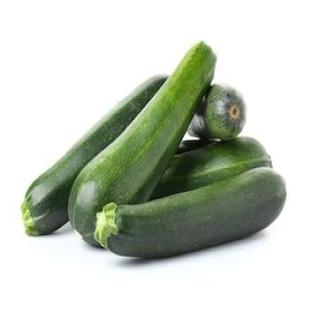Zucchini: (69, 42, 216, 244), (23, 76, 167, 235), (95, 168, 286, 257), (152, 137, 271, 197), (189, 84, 245, 140), (176, 140, 213, 153)
